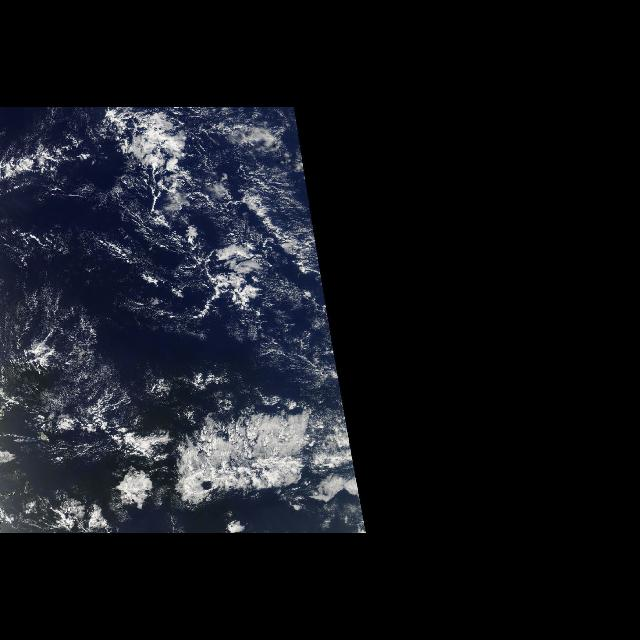Fish: (63, 114, 295, 328)
Sugar: (5, 195, 164, 421)
